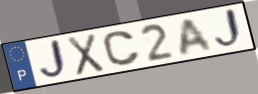2: (139, 22, 175, 64)
A: (179, 16, 215, 57)
C: (101, 29, 142, 68)
J: (213, 6, 246, 52), (37, 37, 69, 82)
X: (65, 32, 106, 78)
